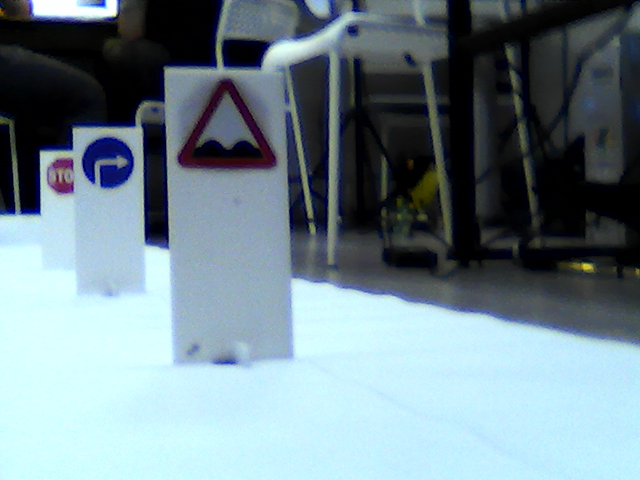Nerov: (173, 75, 281, 173)
Right: (82, 136, 132, 186)
